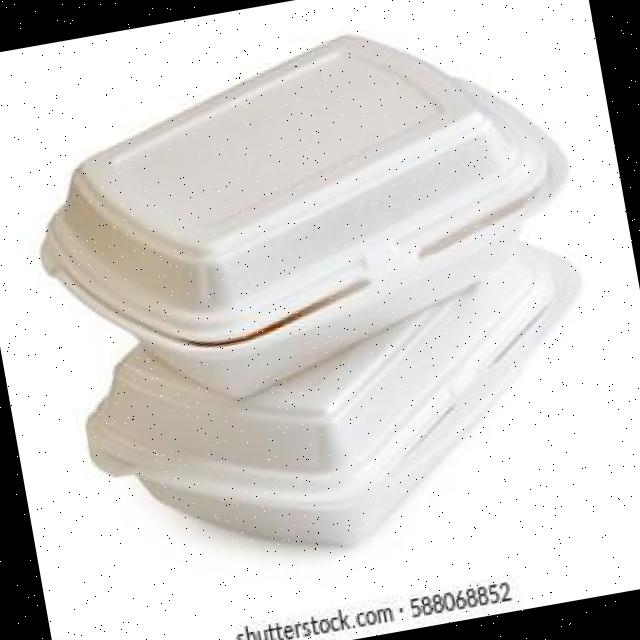styrofoam: (8, 0, 626, 589)
